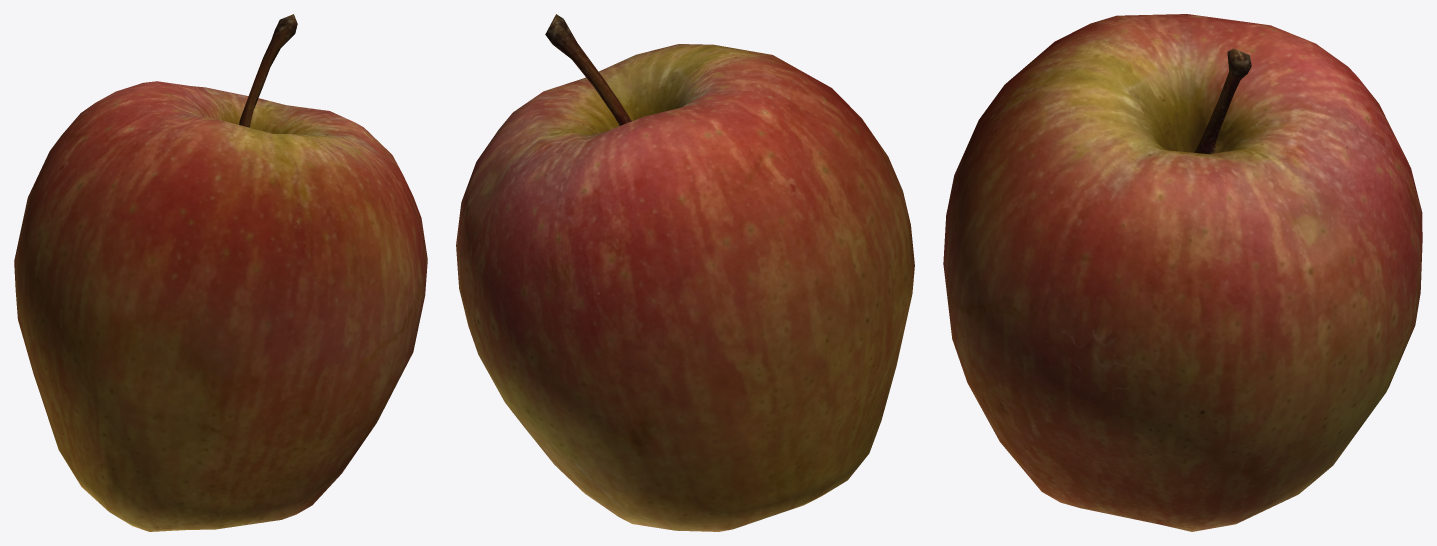
The model's file is apple.gltf.
3 renders of one model, left to right at view 1: azimuth 30°, elevation 25°; view 2: azimuth 150°, elevation 25°; view 3: azimuth 270°, elevation 25°, orthographic. The views are drawn at different scales.
Parts seen in each view (by area): view 1: Apple; view 2: Apple; view 3: Apple.
Part boxes in pixels (bbox=[...]): Apple: bbox=[14, 14, 427, 531]; Apple: bbox=[456, 14, 914, 531]; Apple: bbox=[943, 14, 1422, 531].
Size of the model in its own units: 0.634 by 0.7295 by 0.6257.
1 material, 1 textured.
